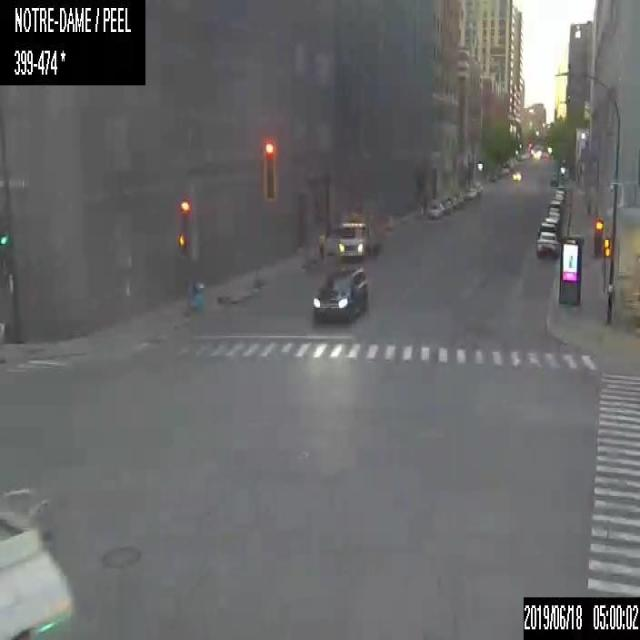pedestrian: (318, 230, 325, 260)
vehicle: (0, 509, 75, 638), (312, 264, 368, 323), (336, 209, 380, 260), (536, 231, 560, 257), (537, 222, 558, 237), (427, 200, 443, 218), (548, 200, 562, 214), (463, 187, 476, 200), (445, 194, 457, 208), (544, 214, 560, 223), (552, 190, 565, 200), (512, 169, 522, 180), (532, 149, 542, 159), (456, 192, 464, 204), (550, 196, 562, 203), (556, 185, 566, 192)
